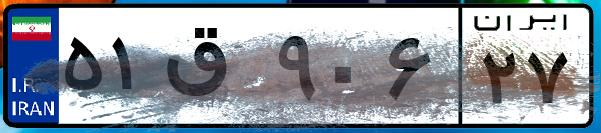0: (330, 28, 385, 110)
1: (110, 28, 158, 98)
2: (475, 38, 525, 113)
5: (57, 26, 110, 100)
6: (385, 28, 445, 110)
7: (525, 38, 570, 115)
9: (270, 28, 330, 110)
ق: (158, 20, 270, 120)
